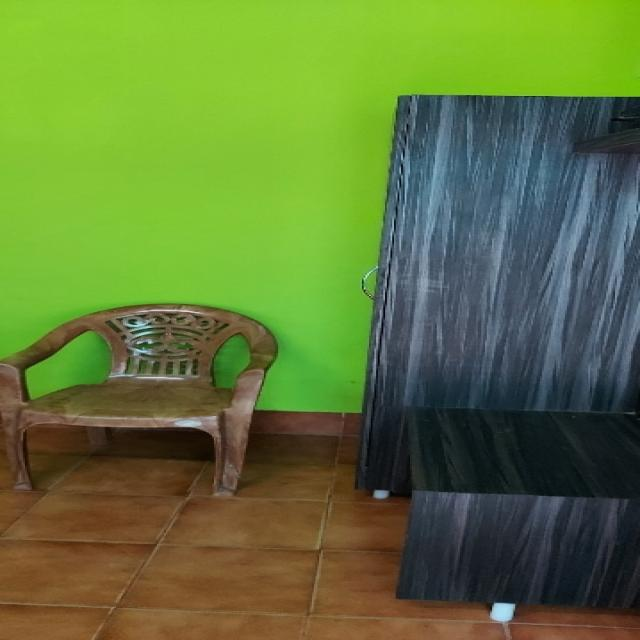Chair: (0, 296, 296, 504)
